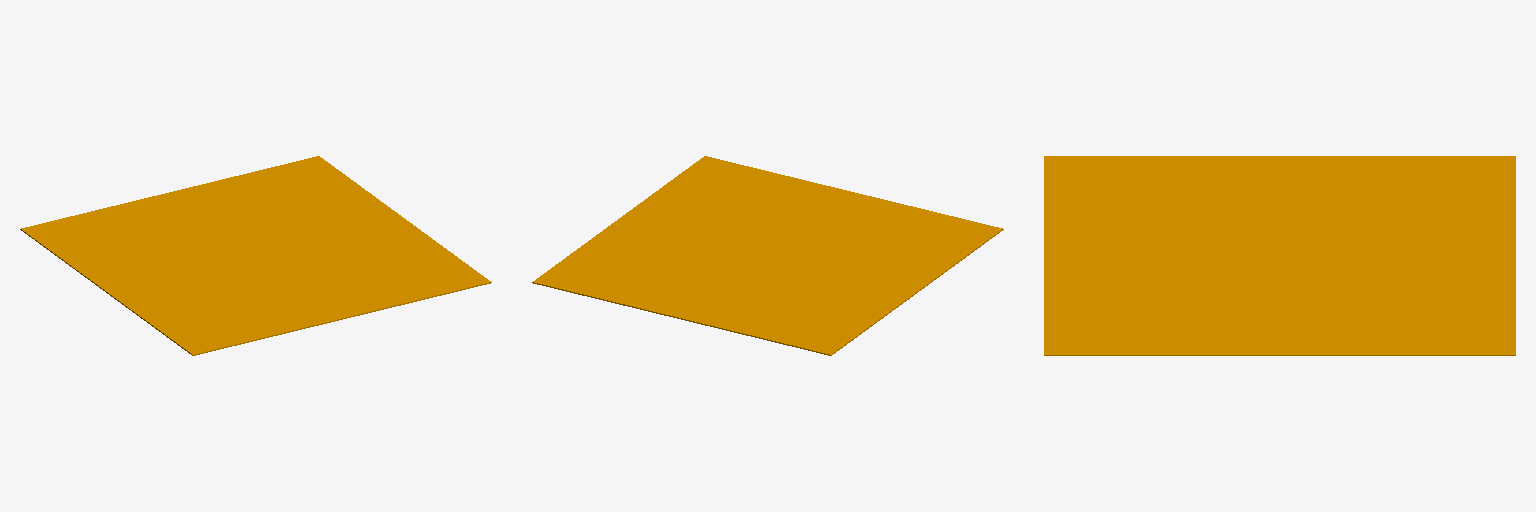
The robot description file, URDF, robot "visual":
<?xml version="1.0"?>
<robot name="visual">

  <link name="world">
    <visual>
      <origin rpy="0.0 0 0" xyz="0 0 -0.2"/>
      <geometry>
        <mesh filename="package://aro_sim/models/robocop_maze/meshes/robocop_maze.dae"/>
      </geometry>
    </visual>
  </link>

</robot>

--- Facts derived from the render (not from the file) ---
The picture shows the robot from 3 angles, left to right: view 1: azimuth 30°, elevation 25°; view 2: azimuth 150°, elevation 25°; view 3: azimuth 270°, elevation 25°; orthographic projection.
Model visual with 1 links and 0 joints (none), rooted at world, posed every joint at zero.
Links seen in each view (by area): view 1: world; view 2: world; view 3: world.
Boxes of the visible links, x1,y1,x2,y2 form: world: [20, 156, 491, 355]; world: [532, 156, 1003, 355]; world: [1044, 156, 1515, 355].
Size in the robot's own frame: 5 by 5 by 0.02 metres.
1 mesh visuals loaded from 1 distinct referenced files (1 Collada DAE).
